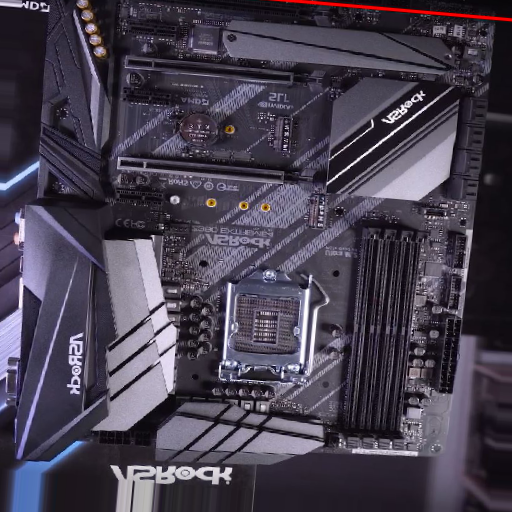CPU: (221, 267, 312, 377)
GPU: (122, 54, 324, 95), (116, 154, 317, 194)
MOTHERBOARD: (15, 6, 489, 476)
RAM: (337, 224, 430, 453)
SSD: (266, 114, 294, 155), (306, 194, 330, 231)
